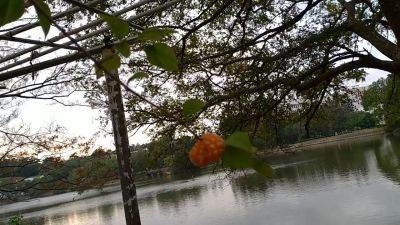eggs: (189, 132, 225, 168)
